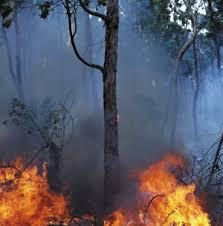fire: (98, 151, 218, 226)
